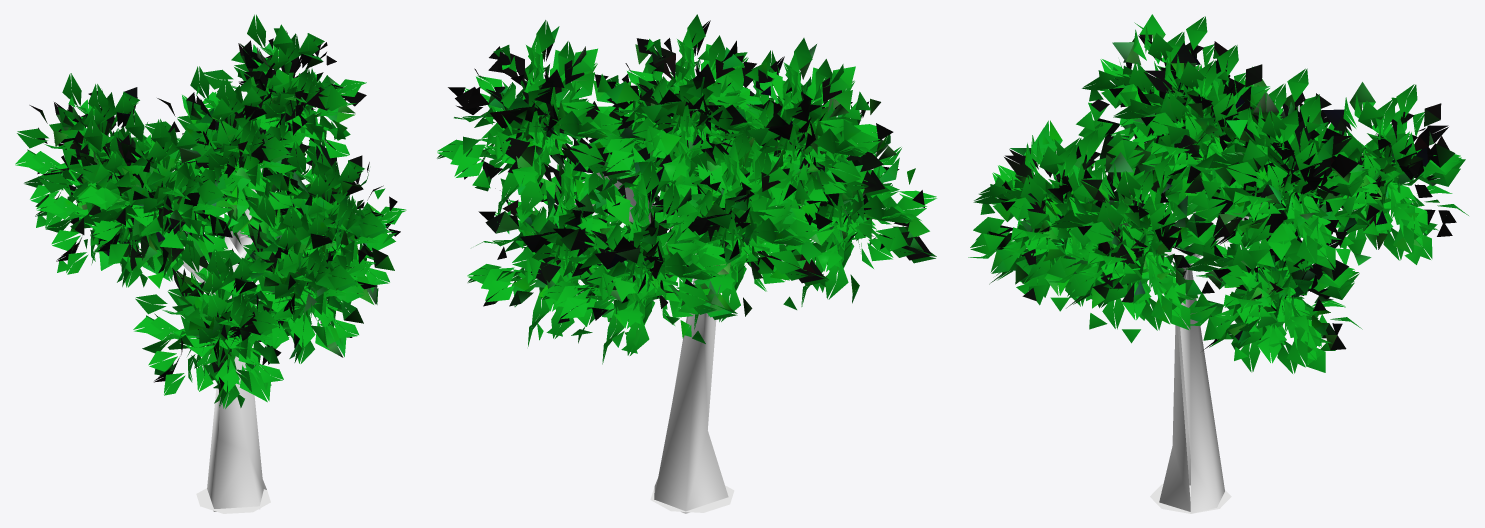
Rendered from tree_broadleaf.glb.
3 views of the same model, side by side, from view 1: azimuth 30°, elevation 25°; view 2: azimuth 150°, elevation 25°; view 3: azimuth 270°, elevation 25° (orthographic). The views are drawn at different scales.
Visible parts, largest first — view 1: Leaves, Trunk; view 2: Leaves, Trunk; view 3: Leaves, Trunk.
Boxes of the visible parts, x1,y1,x2,y2 form: Leaves: (15, 14, 406, 408); Trunk: (182, 164, 270, 513); Leaves: (437, 14, 936, 364); Trunk: (574, 172, 734, 513); Leaves: (968, 14, 1468, 373); Trunk: (1150, 211, 1249, 513).
Bounding box in the file's own units: 9.86 × 12.02 × 12.25.
Materials: 2 (1 with a texture image).
